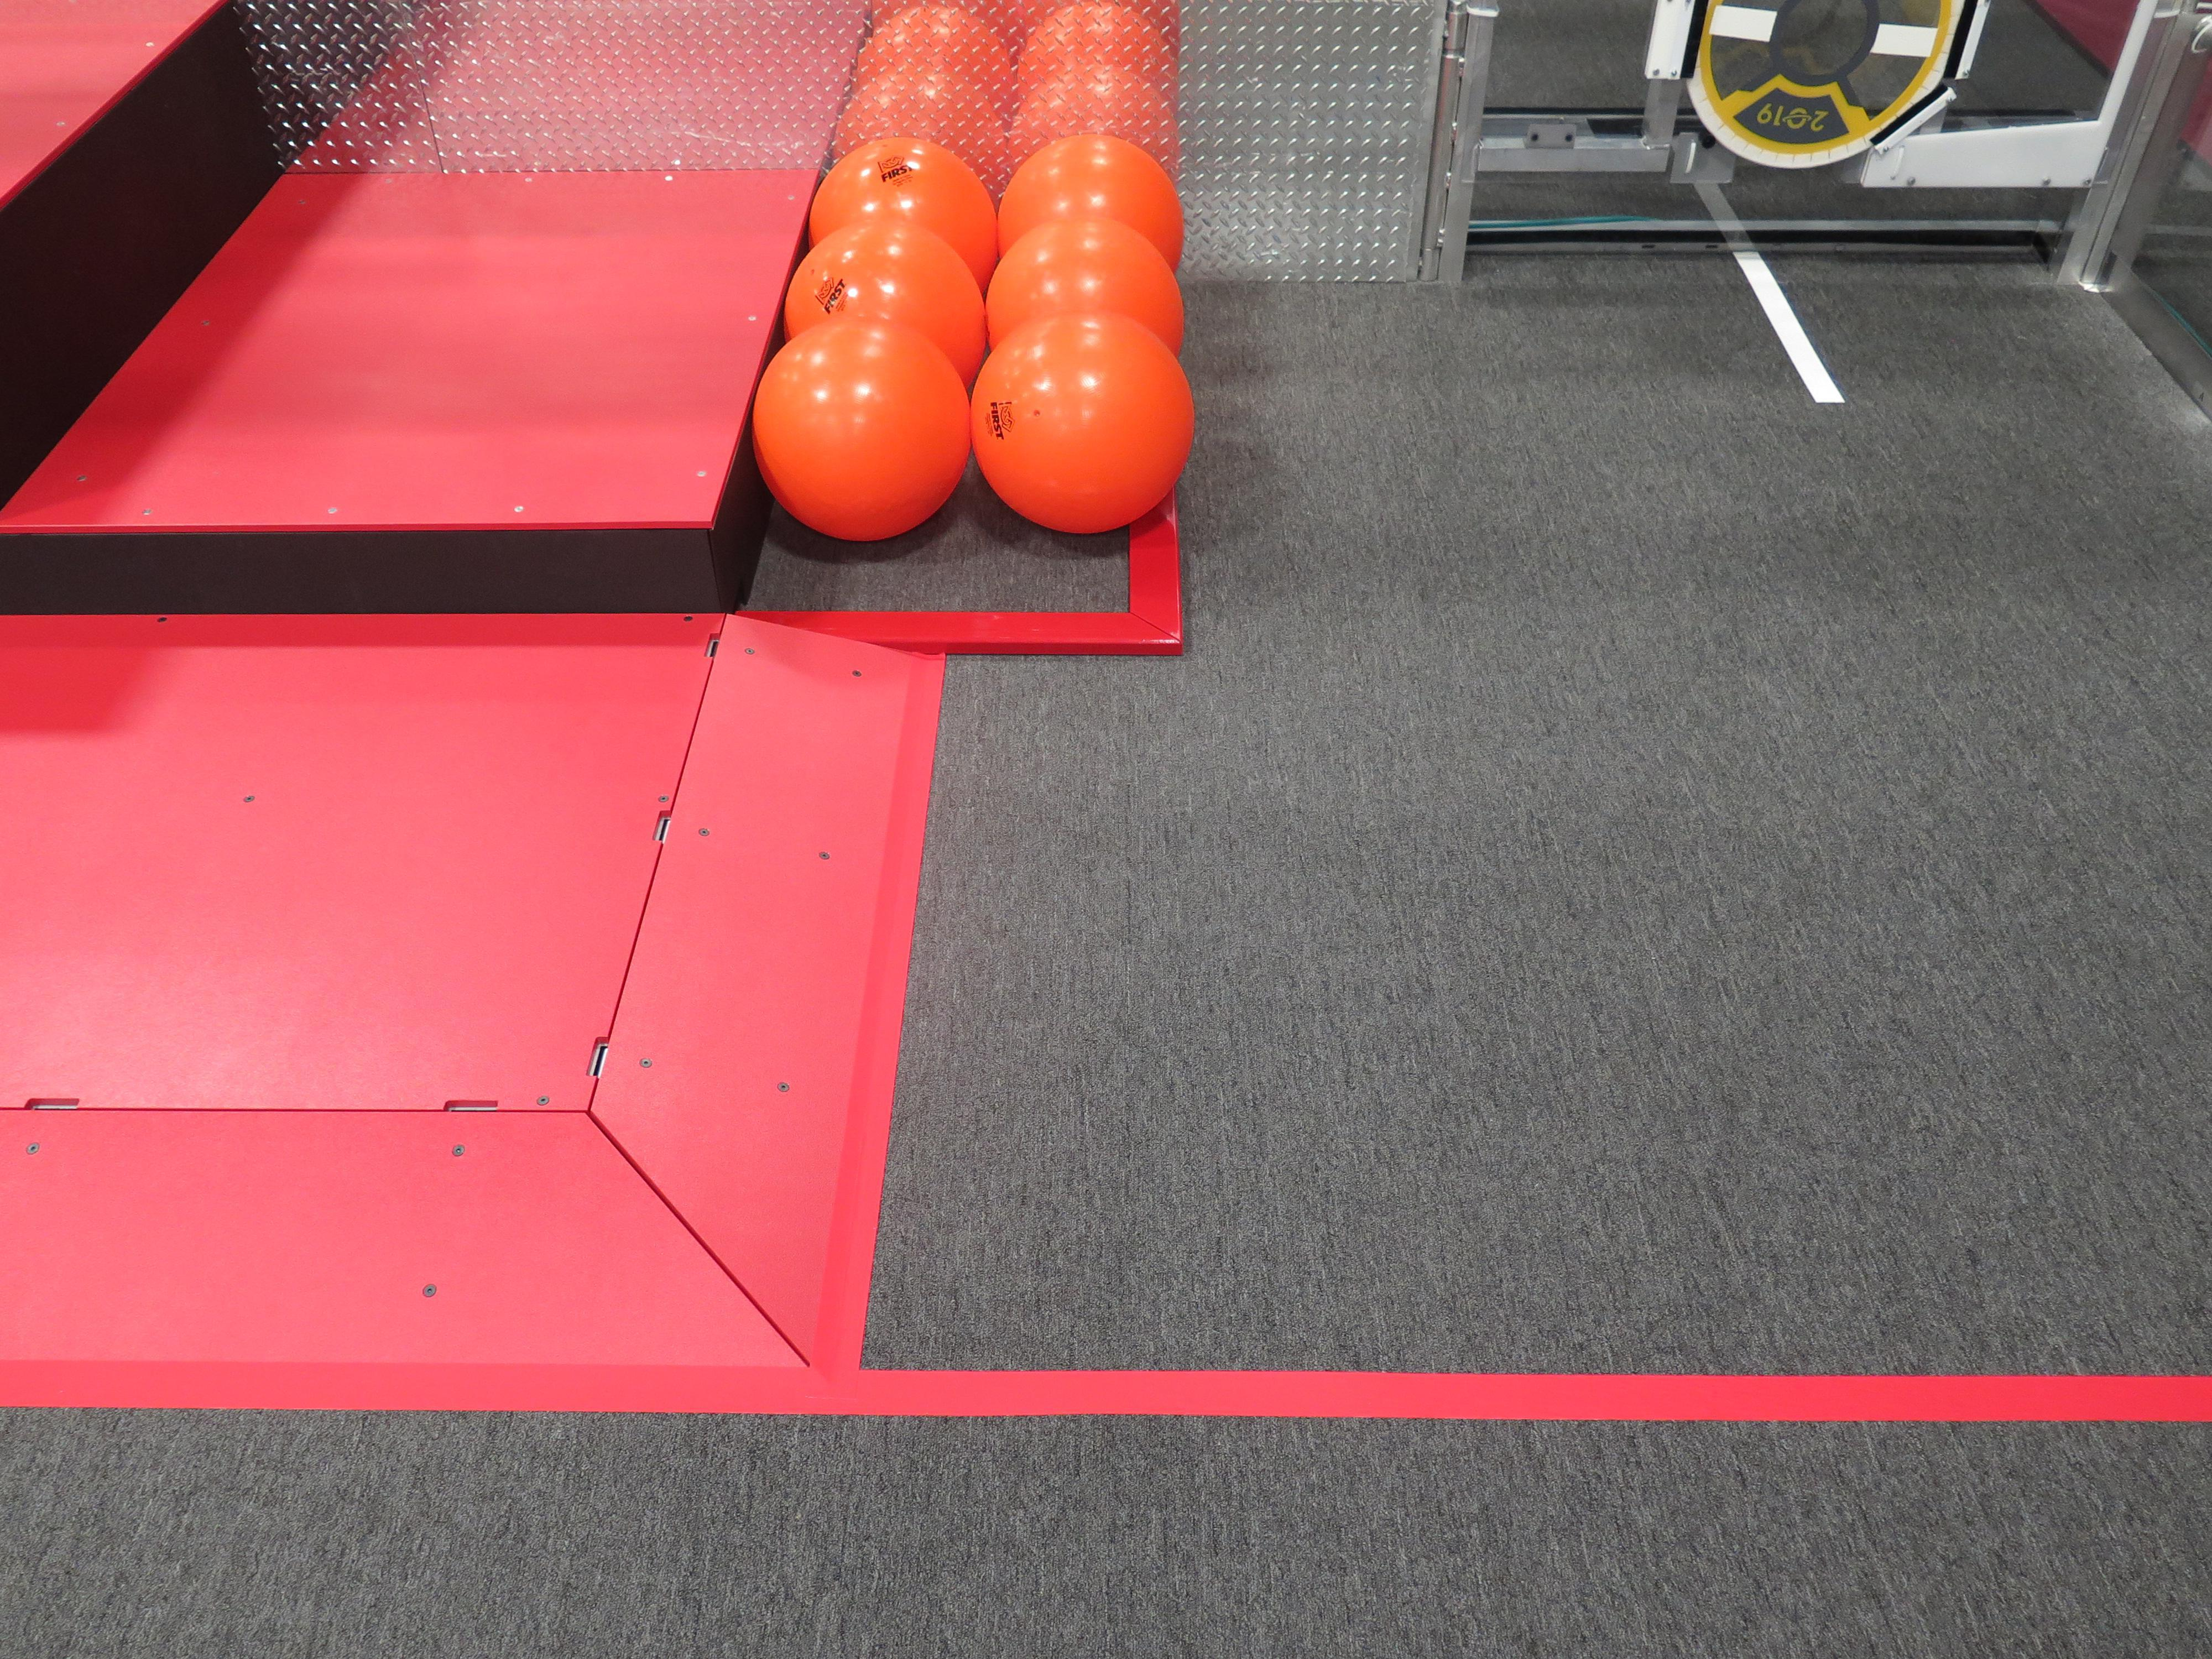Ball: (968, 310, 1197, 533), (749, 314, 970, 544), (780, 221, 984, 390), (986, 216, 1186, 369), (810, 132, 998, 293), (996, 136, 1184, 279)
Hatch: (1683, 0, 1966, 169)
